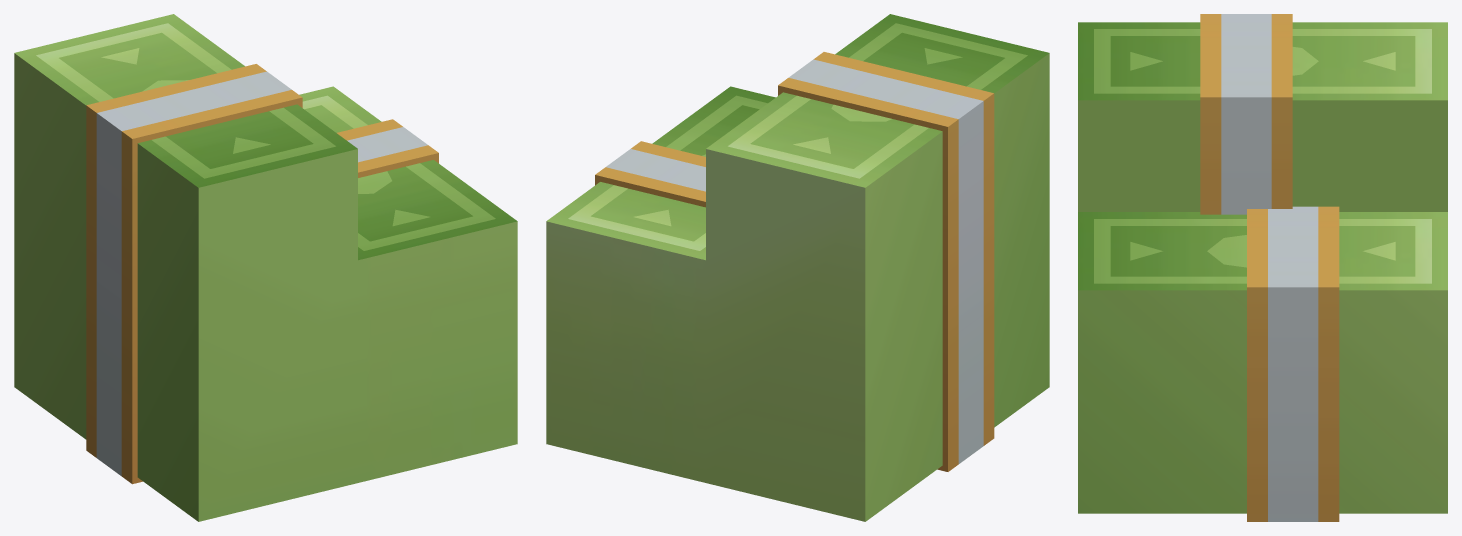
Rendered from money_bills_stack_large.glb.
3 views of the same model, side by side, from view 1: azimuth 30°, elevation 25°; view 2: azimuth 150°, elevation 25°; view 3: azimuth 270°, elevation 25° (orthographic).
Visible parts, largest first — view 1: Money_Bills_Stack_Large; view 2: Money_Bills_Stack_Large; view 3: Money_Bills_Stack_Large.
Part boxes in pixels (left/top/right/bottom): Money_Bills_Stack_Large: left=14, top=14, right=517, bottom=521; Money_Bills_Stack_Large: left=546, top=14, right=1049, bottom=521; Money_Bills_Stack_Large: left=1078, top=14, right=1447, bottom=521.
Bounding box in the file's own units: 0.62 × 0.62 × 0.6.
1 material, 1 textured.
